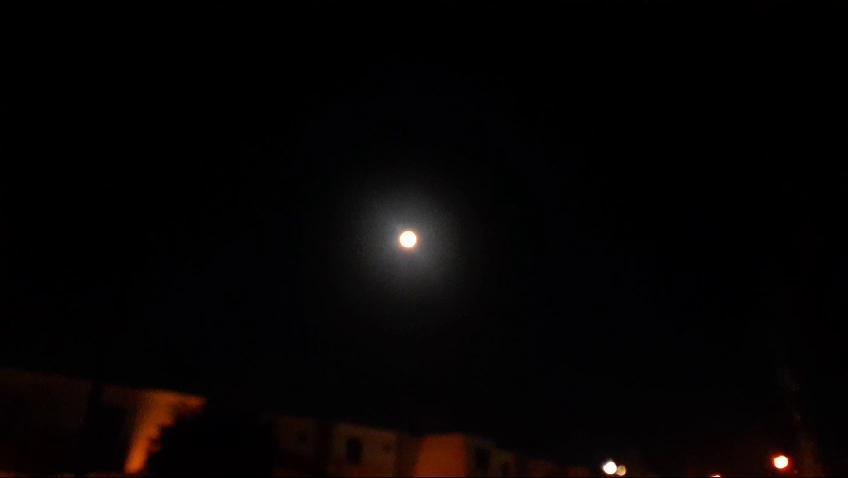moon: (376, 236, 400, 262)
